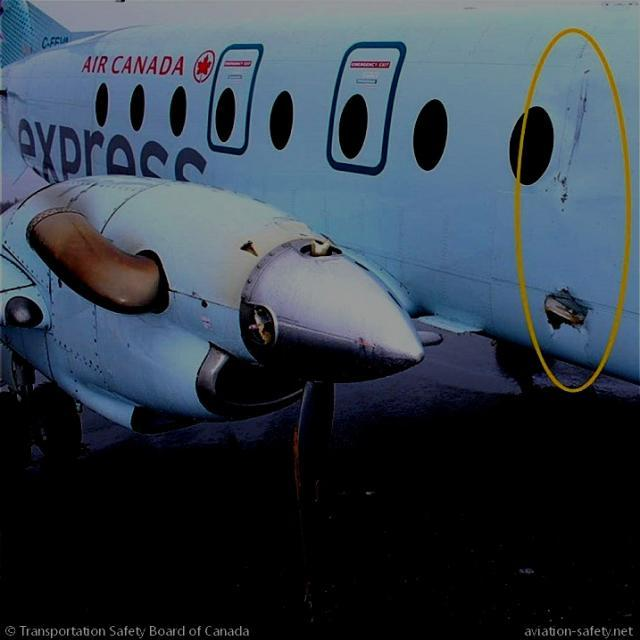crack: (548, 318, 563, 343)
dent: (582, 324, 597, 368)
